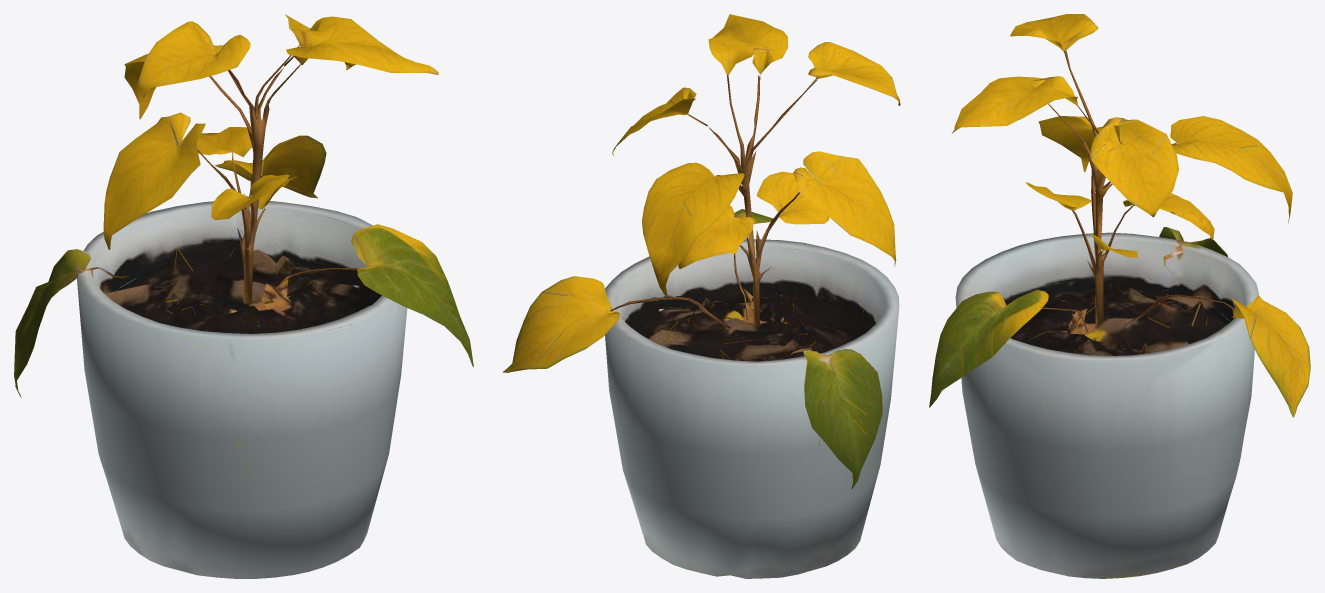
Rendered from office-potted-plant-small.glb.
3 renders of one model, left to right at view 1: azimuth 30°, elevation 25°; view 2: azimuth 150°, elevation 25°; view 3: azimuth 270°, elevation 25°, orthographic. The views are drawn at different scales.
Parts seen in each view (by area): view 1: potted-plant-small; view 2: potted-plant-small; view 3: potted-plant-small.
Boxes of the visible parts, x1=… form: potted-plant-small: x1=14, y1=14, x2=473, y2=578; potted-plant-small: x1=503, y1=14, x2=900, y2=578; potted-plant-small: x1=929, y1=14, x2=1310, y2=578.
Bounding box in the file's own units: 0.4199 × 0.6 × 0.4294.
1 material, 1 textured.
